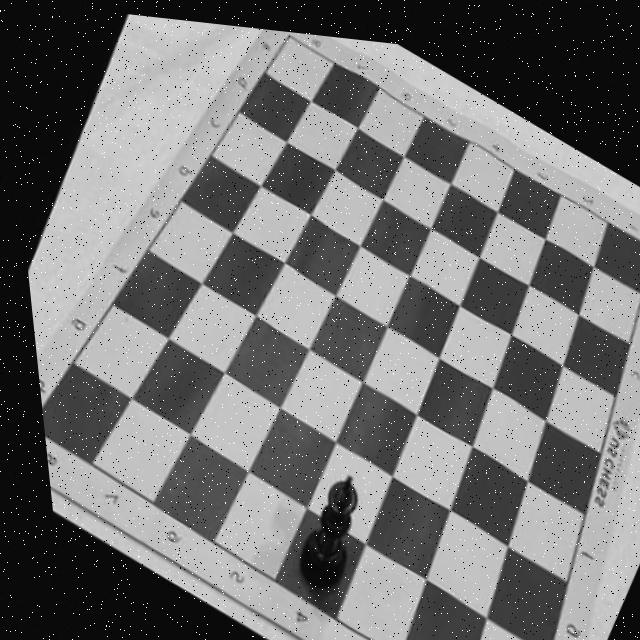chessboard: (33, 28, 640, 640)
